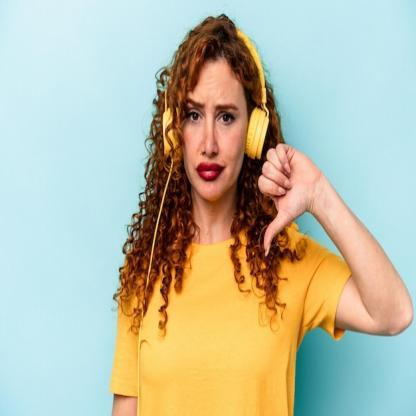thumb_down: (256, 138, 314, 261)
